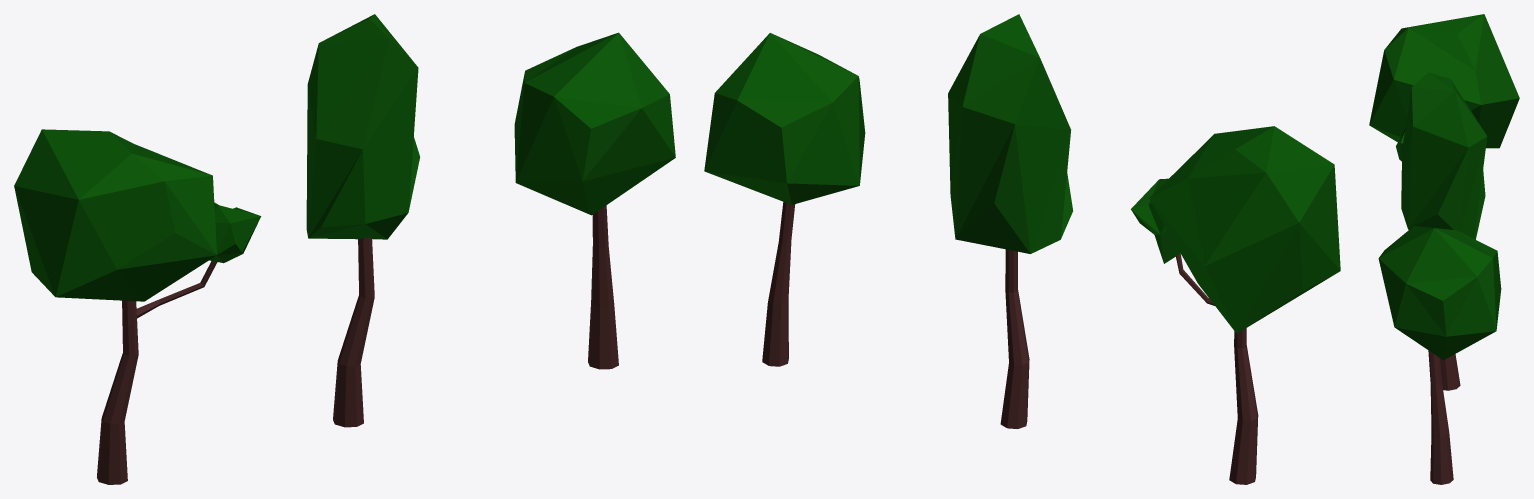
File: LPArvores.FBX
3 renders of one model, left to right at view 1: azimuth 30°, elevation 25°; view 2: azimuth 150°, elevation 25°; view 3: azimuth 270°, elevation 25°, orthographic. The views are drawn at different scales.
Visible parts, largest first — view 1: LPTree3, LPTree2, LPTree1, TrocoTree3, TrocoTree2, TrocoTree1; view 2: LPTree3, LPTree2, LPTree1, TrocoTree3, TrocoTree2, TrocoTree1; view 3: LPTree1, LPTree3, LPTree2, TrocoTree1, TrocoTree2.
Boxes of the visible parts, x1,y1,x2,y2 form: LPTree3: (14,129,261,301); LPTree2: (306,14,419,239); LPTree1: (514,32,675,215); TrocoTree3: (97,261,217,484); TrocoTree2: (333,237,374,427); TrocoTree1: (588,205,618,369); LPTree3: (1131,126,1340,333); LPTree2: (948,14,1072,253); LPTree1: (704,33,865,204); TrocoTree3: (1176,254,1258,484); TrocoTree2: (1000,249,1029,428); TrocoTree1: (762,202,795,366); LPTree1: (1378,226,1501,360); LPTree3: (1369,14,1519,161); LPTree2: (1401,72,1487,239); TrocoTree1: (1428,350,1453,484); TrocoTree2: (1440,354,1460,390).
Size of the model in its own units: 89.89 by 56.32 by 24.32.
